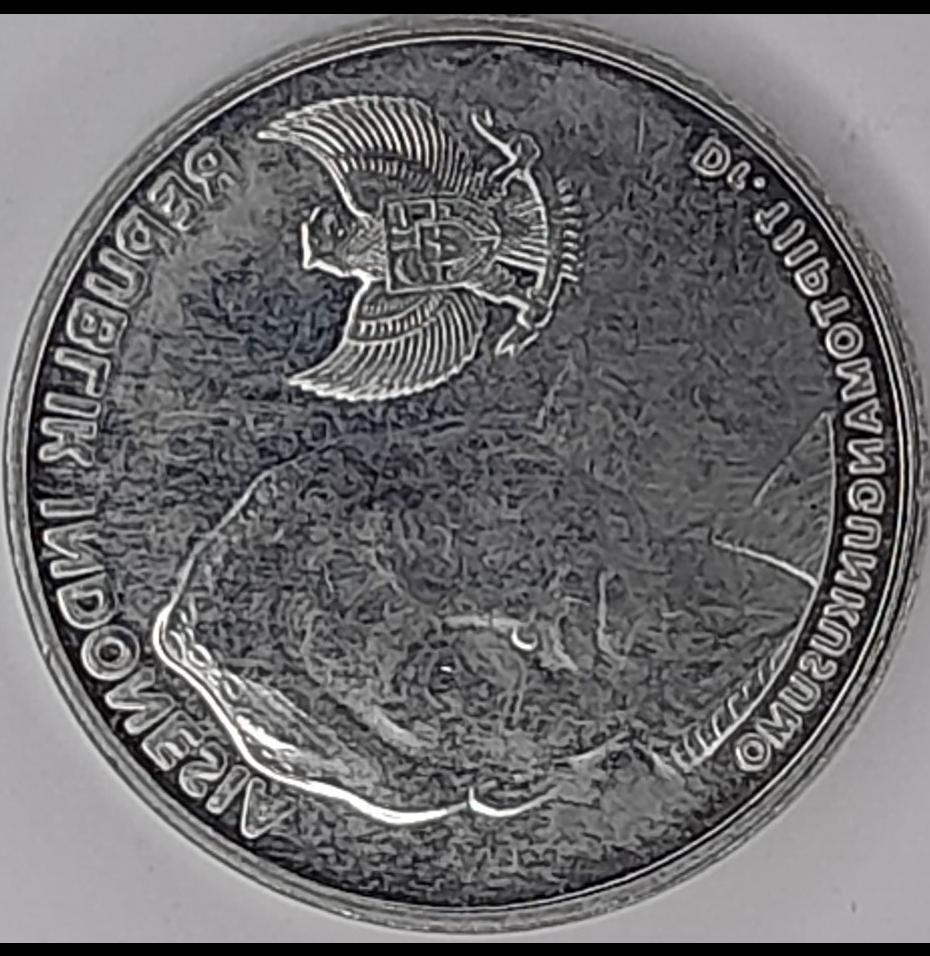coin_200_e2016: (0, 17, 930, 956)
